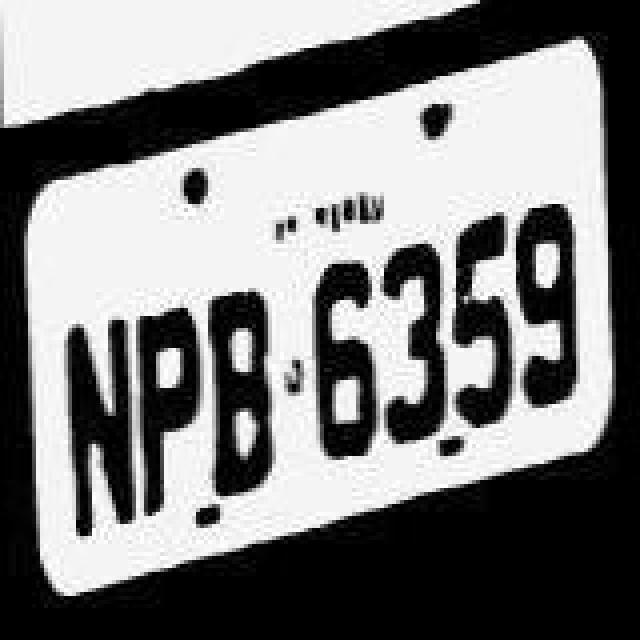3: (374, 234, 450, 446)
5: (446, 198, 514, 426)
6: (300, 254, 380, 466)
9: (514, 154, 590, 430)
B: (202, 280, 286, 504)
N: (52, 272, 132, 560)
P: (134, 274, 210, 518)
